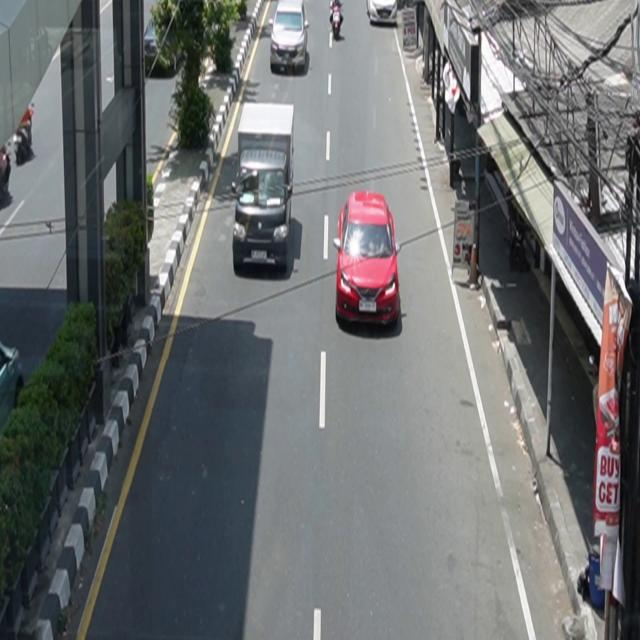car: (334, 191, 402, 329), (269, 1, 310, 74), (1, 340, 25, 443), (367, 1, 398, 26)
truck: (232, 103, 296, 273)
